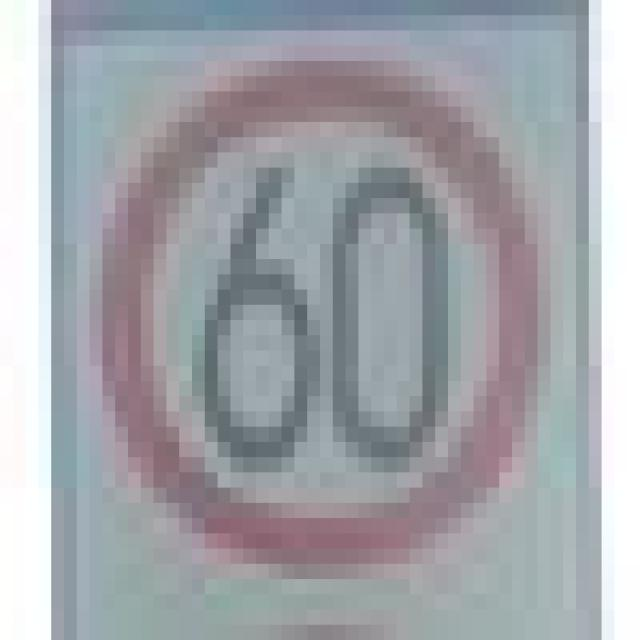speed_limit_40: (90, 46, 538, 564)
